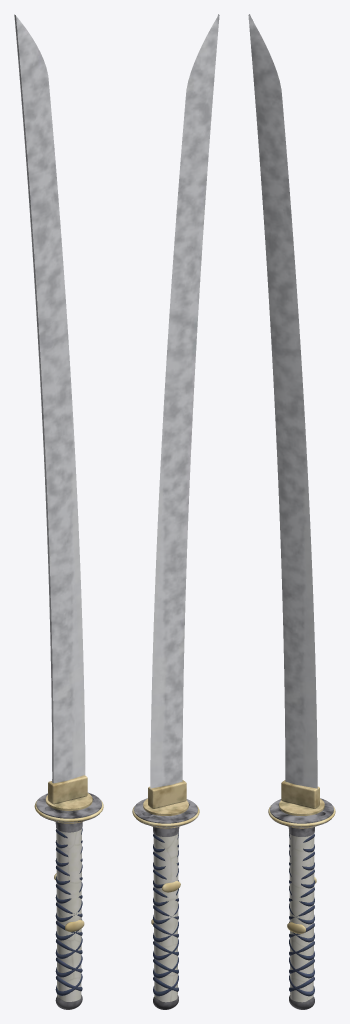
3 renders of one model, left to right at view 1: azimuth 30°, elevation 25°; view 2: azimuth 210°, elevation 25°; view 3: azimuth 330°, elevation 25°, orthographic. The views are drawn at different scales.
Visible parts, largest first — view 1: metal_hamon, skin_ray, cloth_navy, metal_brass, metal_dark, metal_gold; view 2: metal_hamon, skin_ray, cloth_navy, metal_brass, metal_dark, metal_gold; view 3: metal_hamon, skin_ray, cloth_navy, metal_brass, metal_dark, metal_gold.
Part boxes in pixels (x1,y1,x2,y2): metal_hamon: [14, 14, 85, 783]; skin_ray: [56, 828, 81, 1001]; cloth_navy: [55, 828, 82, 995]; metal_brass: [45, 775, 92, 823]; metal_dark: [36, 792, 101, 1009]; metal_gold: [34, 800, 103, 931]; metal_hamon: [150, 14, 219, 788]; skin_ray: [153, 833, 178, 1002]; cloth_navy: [153, 833, 178, 996]; metal_brass: [143, 780, 188, 828]; metal_dark: [134, 798, 197, 1009]; metal_gold: [132, 805, 199, 924]; metal_hamon: [248, 14, 317, 788]; skin_ray: [289, 833, 314, 1002]; cloth_navy: [289, 833, 314, 996]; metal_brass: [279, 780, 324, 828]; metal_dark: [270, 798, 333, 1009]; metal_gold: [268, 805, 335, 933].
Size of the model in its own units: 0.125 by 1.42 by 0.0884.
Materials: 6 (6 with a texture image).
